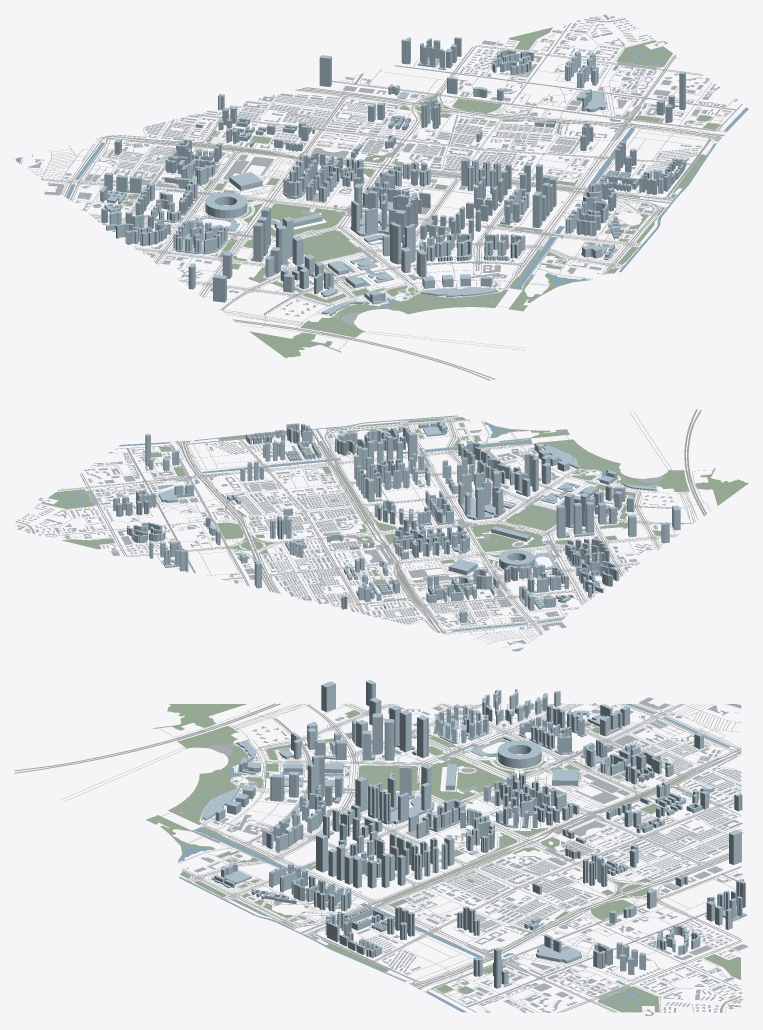
Rendered from overview-known--4_0.glb.
3 views of the same model, one above another, from view 1: azimuth 30°, elevation 25°; view 2: azimuth 150°, elevation 25°; view 3: azimuth 270°, elevation 25° (orthographic). The views are drawn at different scales.
Size of the model in its own units: 4134 by 241 by 4028.
